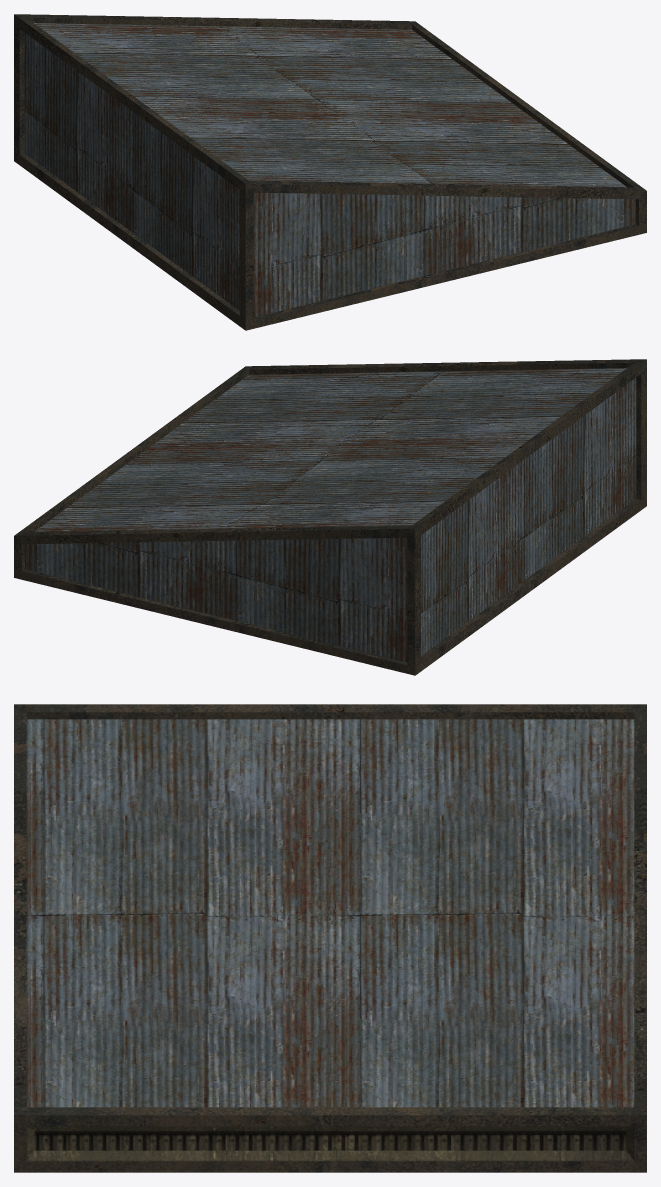
File: roof_mh_1.dae
3 views of the same model, one above another, from view 1: azimuth 30°, elevation 25°; view 2: azimuth 150°, elevation 25°; view 3: azimuth 270°, elevation 25° (orthographic). The views are drawn at different scales.
Parts seen in each view (by area): view 1: roof_mh_1; view 2: roof_mh_1; view 3: roof_mh_1.
Boxes of the visible parts, left/top/right/bottom form: roof_mh_1: left=14, top=14, right=646, bottom=330; roof_mh_1: left=14, top=359, right=646, bottom=675; roof_mh_1: left=14, top=704, right=646, bottom=1172.
Bounding box in the file's own units: 4 × 4 × 1.4.
5 materials, 5 textured.
